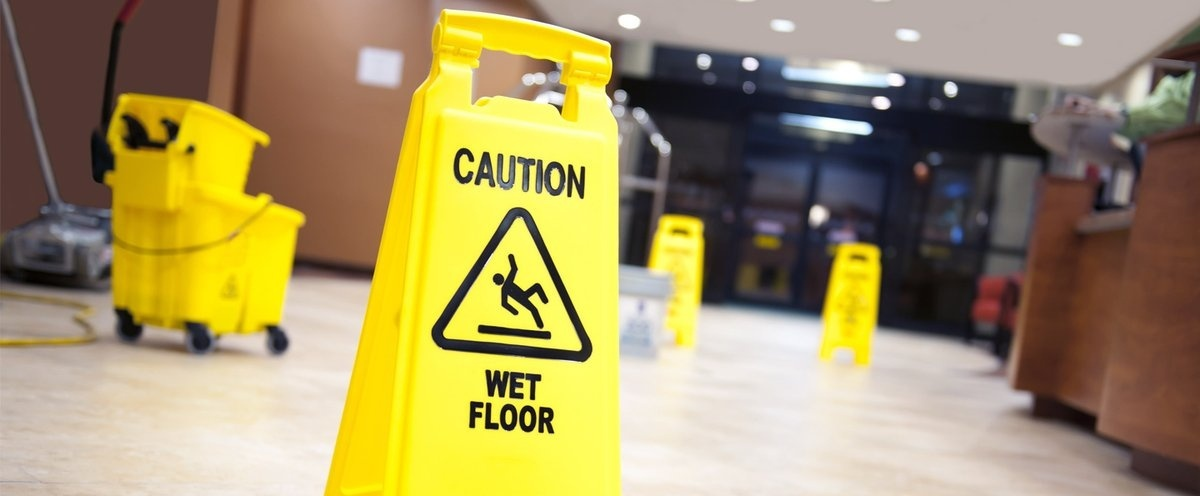text: (465, 146, 480, 200), (481, 146, 496, 200), (497, 146, 512, 200), (513, 146, 528, 200), (529, 146, 544, 200), (545, 146, 560, 200), (561, 146, 576, 200), (577, 146, 588, 200), (497, 367, 512, 402), (513, 367, 528, 402), (529, 367, 544, 402), (481, 401, 496, 435), (497, 401, 512, 435), (513, 401, 528, 435), (529, 401, 544, 435), (456, 146, 464, 200), (545, 401, 557, 435), (485, 367, 496, 402), (469, 401, 480, 435)
